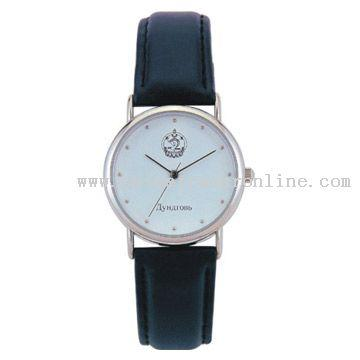watch: (98, 92, 258, 256)
